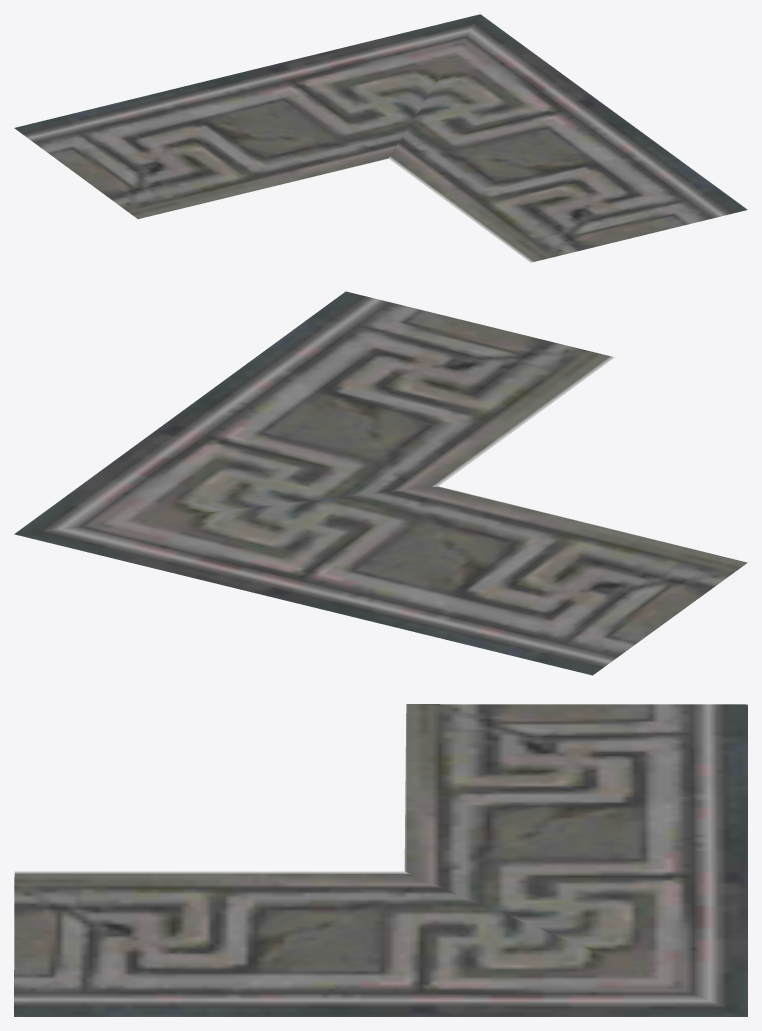
Rendered from h5_dibian_b.FBX.
3 views of the same model, one above another, from view 1: azimuth 30°, elevation 25°; view 2: azimuth 150°, elevation 25°; view 3: azimuth 270°, elevation 25° (orthographic). The views are drawn at different scales.
Parts seen in each view (by area): view 1: h5_dibian_b; view 2: h5_dibian_b; view 3: h5_dibian_b.
Boxes of the visible parts, <box> form: h5_dibian_b: <box>14,14,747,262</box>; h5_dibian_b: <box>14,291,747,675</box>; h5_dibian_b: <box>14,704,747,1016</box>.
Size of the model in its own units: 6.49 by 2.86e-06 by 6.44.
